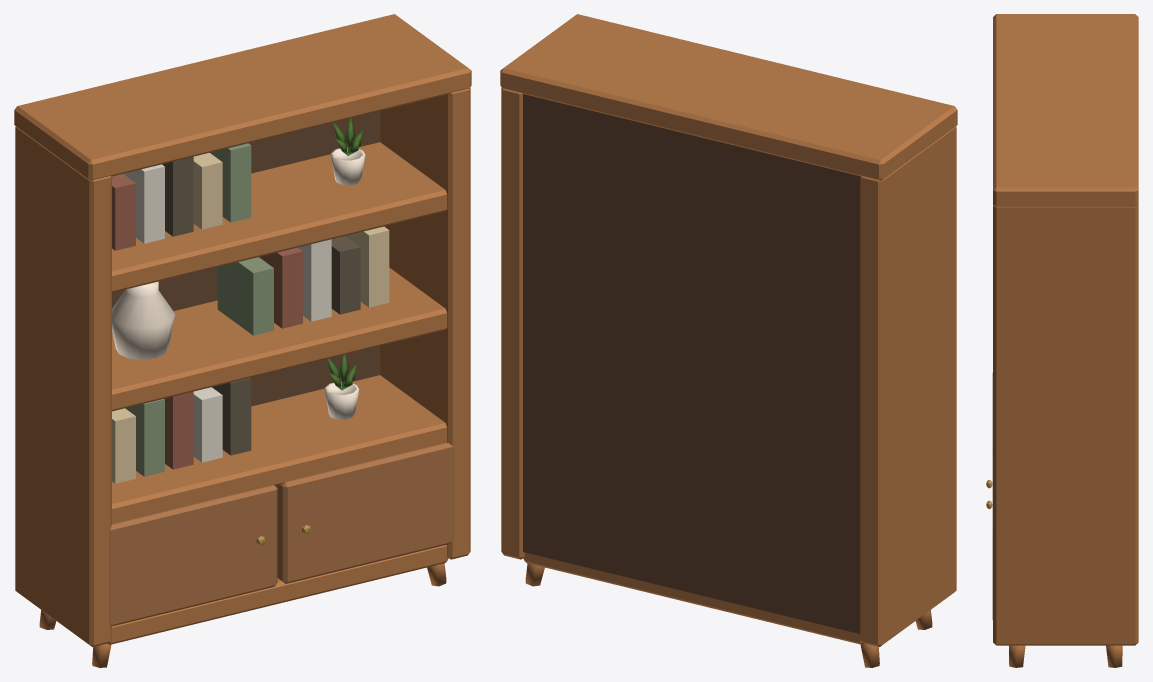
Rendered from bookshelf.glb.
The picture shows the model from 3 angles, left to right: view 1: azimuth 30°, elevation 25°; view 2: azimuth 150°, elevation 25°; view 3: azimuth 270°, elevation 25°; orthographic projection. The views are drawn at different scales.
Visible parts, largest first — view 1: bookshelf_side_-1, bookshelf_shelf_4, bookshelf_side_1, bookshelf_shelf_3, bookshelf_shelf_1, bookshelf_lower_door_1, bookshelf_shelf_2, bookshelf_lower_door_-1, bookshelf_back, bookshelf_shelf_0, bookshelf_vase, bookshelf_book_1_0 (+16 smaller); view 2: bookshelf_back, bookshelf_side_-1, bookshelf_shelf_4, bookshelf_side_1, bookshelf_shelf_0; view 3: bookshelf_side_1, bookshelf_shelf_4, bookshelf_leg_0.8_0.215, bookshelf_leg_0.8_-0.215.
Boxes of the visible parts, x1,y1,x2,y2 form: bookshelf_side_-1: [15, 126, 111, 646]; bookshelf_shelf_4: [14, 14, 471, 180]; bookshelf_side_1: [380, 88, 470, 559]; bookshelf_shelf_3: [112, 142, 447, 292]; bookshelf_shelf_1: [112, 375, 447, 524]; bookshelf_lower_door_1: [276, 442, 453, 583]; bookshelf_shelf_2: [112, 267, 447, 411]; bookshelf_lower_door_-1: [109, 485, 277, 626]; bookshelf_back: [112, 111, 380, 486]; bookshelf_shelf_0: [108, 545, 448, 644]; bookshelf_vase: [112, 281, 175, 359]; bookshelf_book_1_0: [217, 257, 273, 335]; bookshelf_back: [523, 94, 860, 633]; bookshelf_side_-1: [860, 126, 956, 646]; bookshelf_shelf_4: [500, 14, 957, 180]; bookshelf_side_1: [501, 88, 524, 559]; bookshelf_shelf_0: [523, 552, 863, 644]; bookshelf_side_1: [993, 205, 1138, 645]; bookshelf_shelf_4: [993, 14, 1138, 206]; bookshelf_leg_0.8_0.215: [1106, 645, 1122, 667]; bookshelf_leg_0.8_-0.215: [1009, 645, 1025, 667].
Size of the model in its own units: 1.86 by 2.41 by 0.6791.
